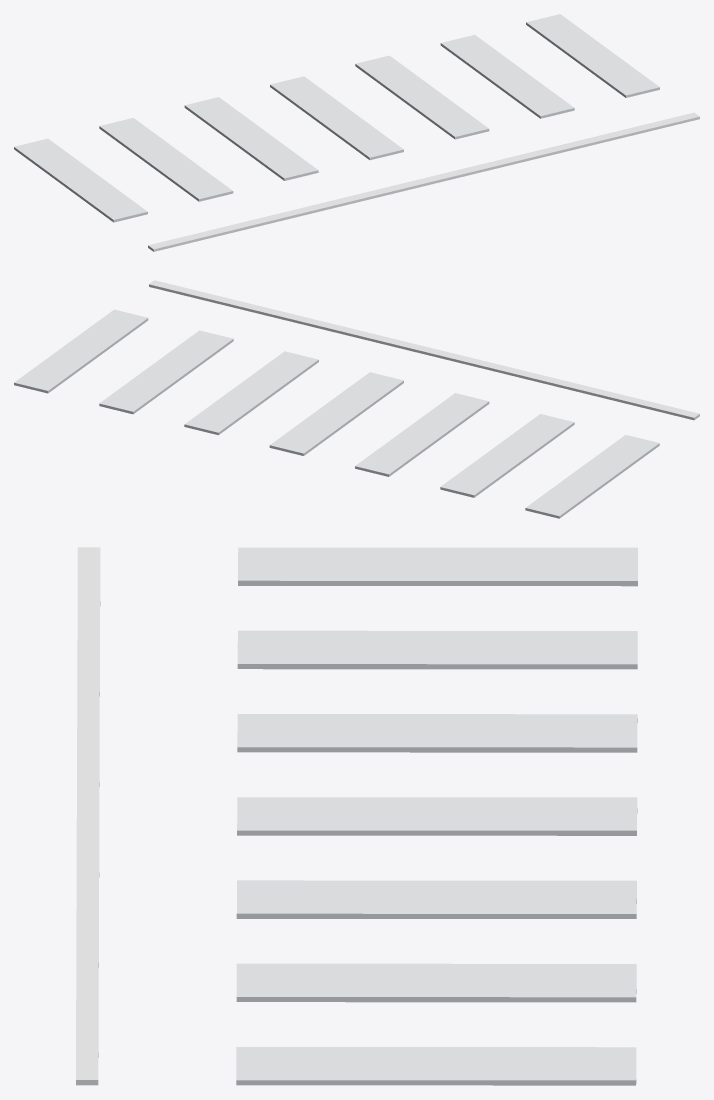
File: Zebra_Crossing.glb
3 renders of one model, top to bottom at view 1: azimuth 30°, elevation 25°; view 2: azimuth 150°, elevation 25°; view 3: azimuth 270°, elevation 25°, orthographic. The views are drawn at different scales.
Parts seen in each view (by area): view 1: zebraCrossing; view 2: zebraCrossing; view 3: zebraCrossing.
Boxes of the visible parts, x1,y1,x2,y2 form: zebraCrossing: [14, 14, 699, 251]; zebraCrossing: [14, 280, 699, 518]; zebraCrossing: [76, 547, 637, 1085].
Size of the model in its own units: 13.99 by 0.0625 by 6.23.
1 material, 1 textured.
